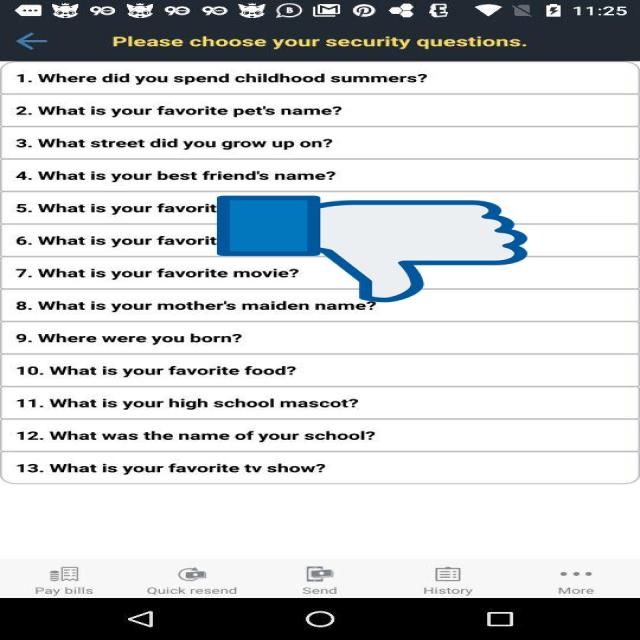obstruction: (217, 193, 527, 305)
